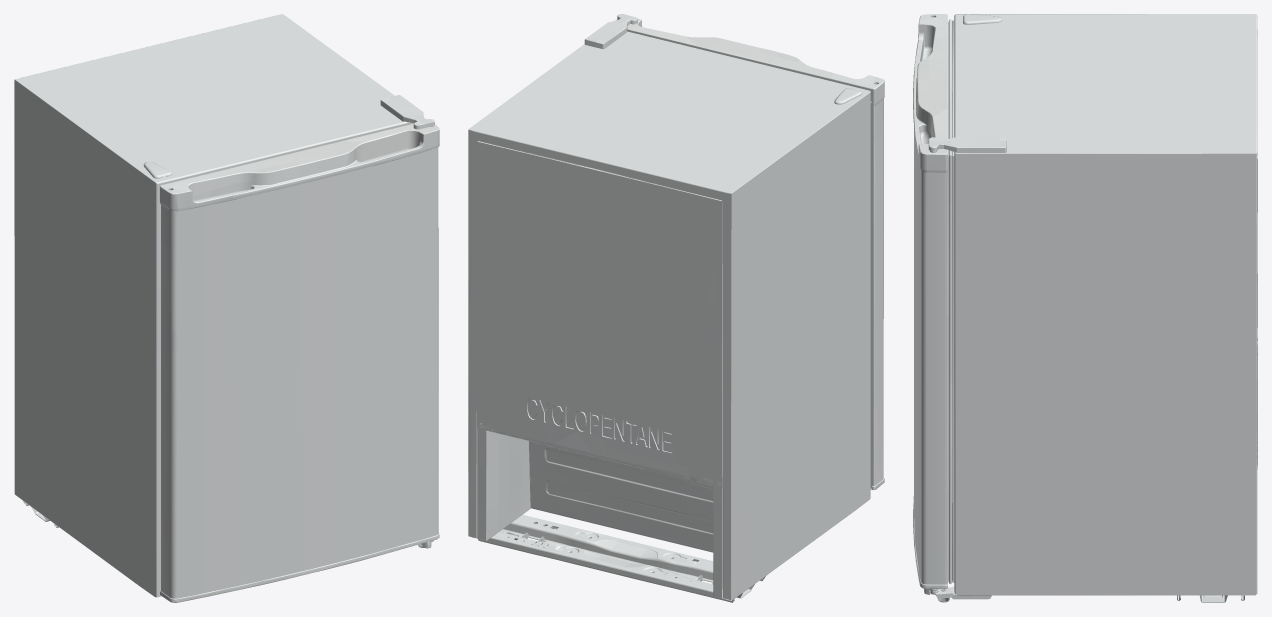
The model's file is LAGAN_anim.glb.
3 views of the same model, side by side, from view 1: azimuth 30°, elevation 25°; view 2: azimuth 150°, elevation 25°; view 3: azimuth 270°, elevation 25° (orthographic). The views are drawn at different scales.
Parts seen in each view (by area): view 1: door_surface, body; view 2: body, door_surface; view 3: body, door_surface.
Part boxes in pixels (x1,y1,x2,y2): door_surface: [159, 123, 439, 602]; body: [14, 14, 434, 597]; body: [468, 14, 870, 602]; door_surface: [616, 18, 884, 490]; body: [924, 14, 1257, 602]; door_surface: [913, 14, 954, 589].
Bounding box in the file's own units: 0.5489 × 0.8382 × 0.5695.
2 materials, 2 textured.
